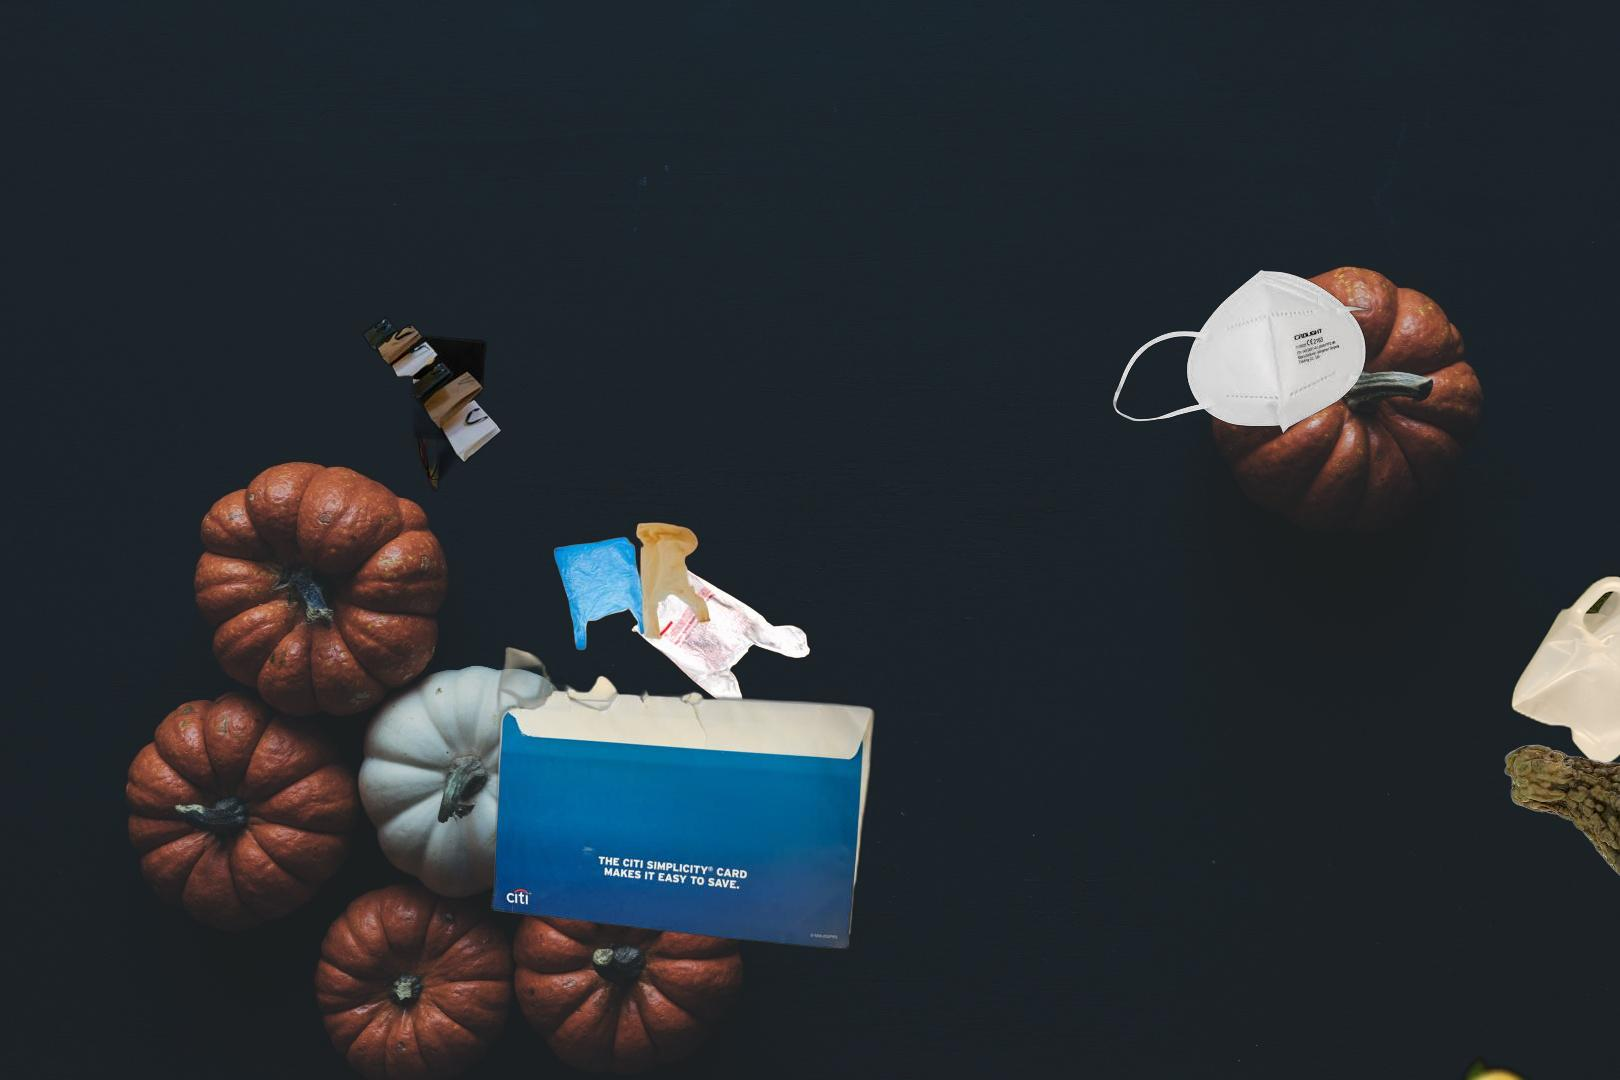biological: (1503, 740, 1620, 902), (1451, 1052, 1620, 1080)
paper: (487, 642, 880, 952)
paper-bag: (264, 316, 526, 507)
plastic-bag: (550, 520, 812, 709)
plastic-bottles: (1508, 559, 1620, 773)
trash: (1113, 270, 1420, 434)
